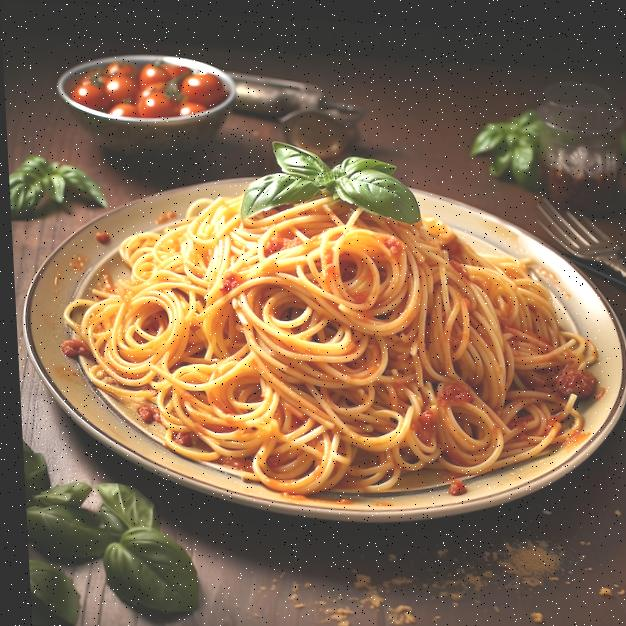pasta: (65, 195, 596, 494)
